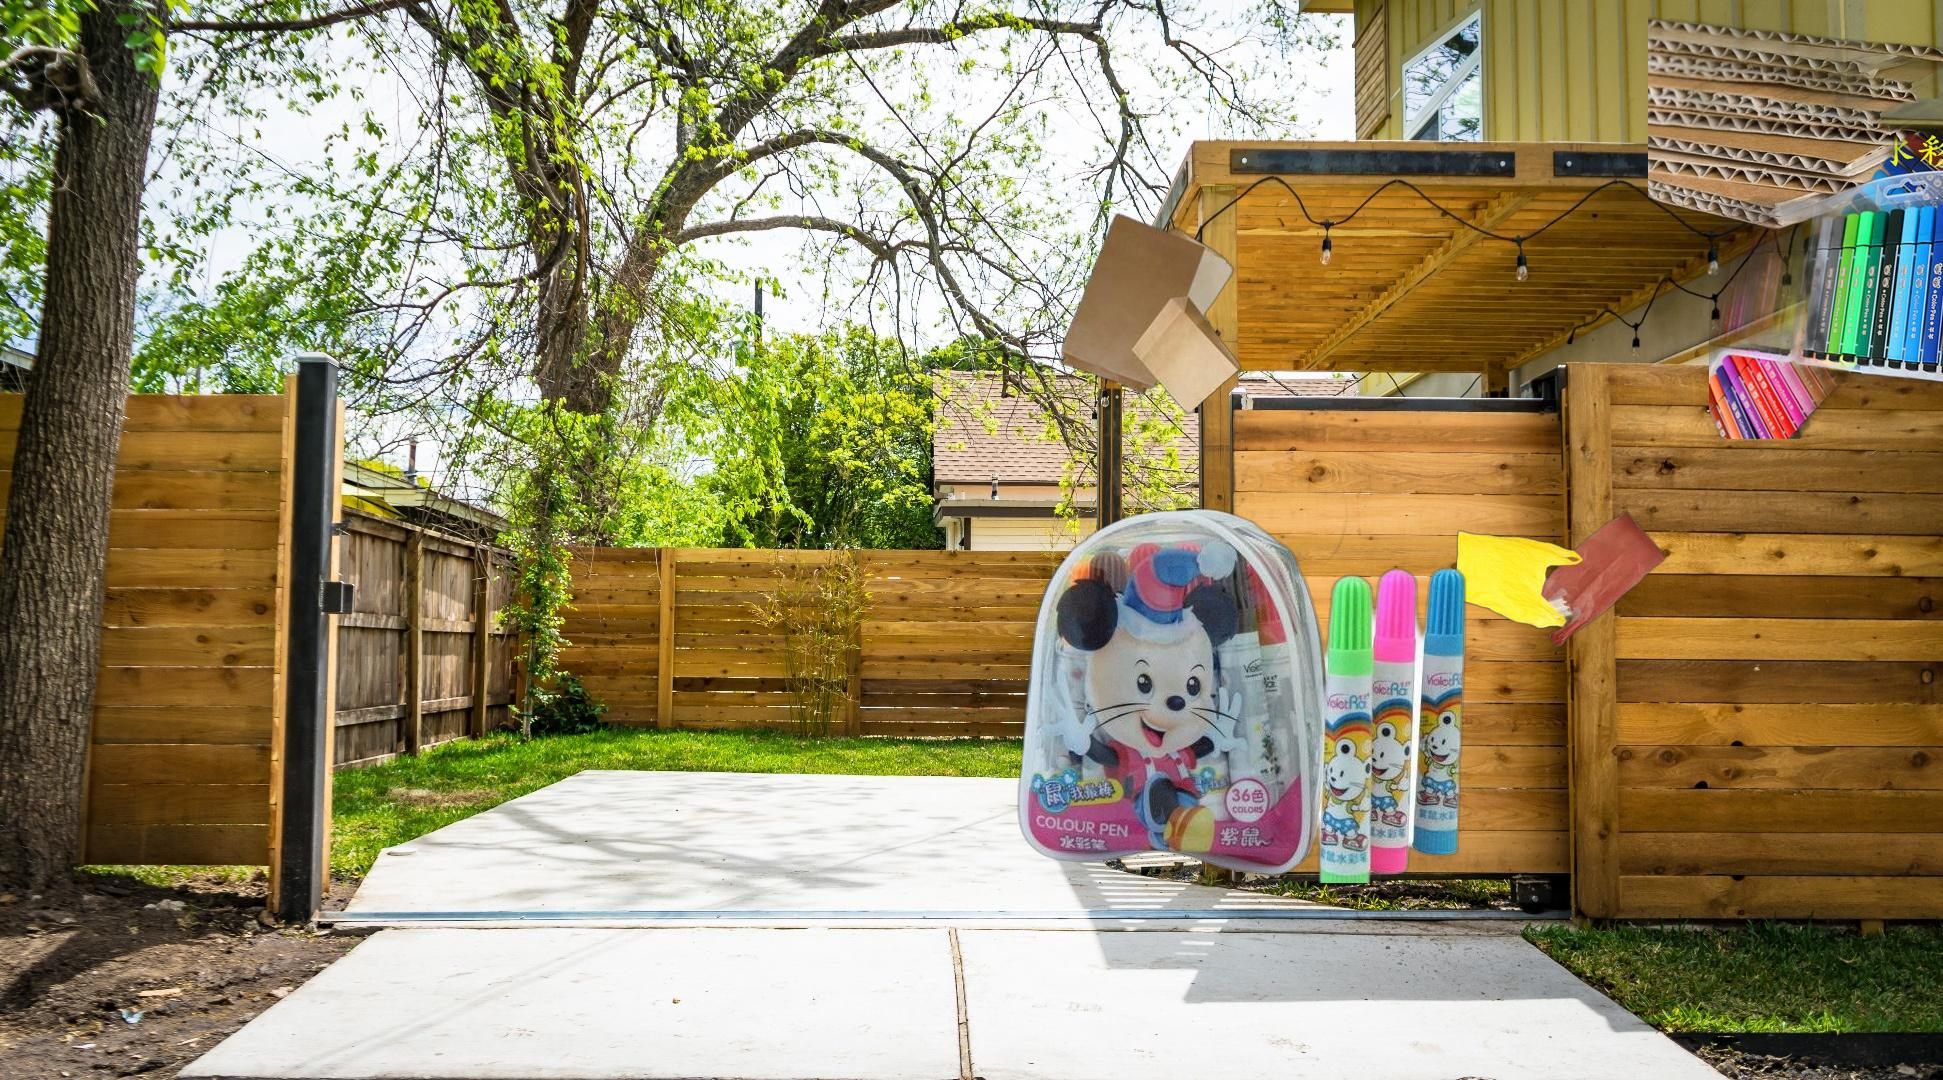paper-bag: (1057, 211, 1243, 418)
penholder: (1013, 481, 1471, 883), (1709, 129, 1943, 439)
plastic-bag: (1448, 508, 1670, 650)
trashbox-cardboard: (1648, 5, 1943, 235)
